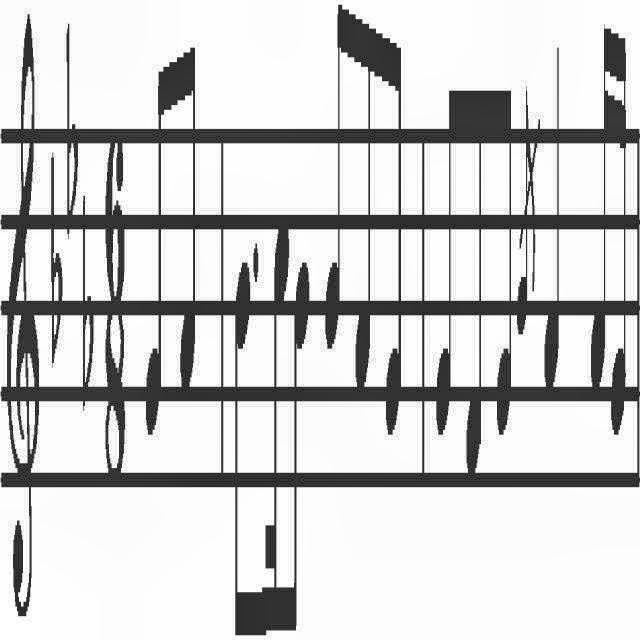Bass-clef: (3, 1, 42, 612)
Bemol: (42, 102, 62, 386), (77, 168, 91, 448), (60, 18, 76, 250)
Eighth-note: (171, 0, 201, 428), (351, 0, 377, 444), (384, 12, 406, 492), (140, 24, 163, 448), (318, 0, 346, 346), (462, 66, 486, 466), (432, 59, 456, 441), (230, 251, 252, 627), (492, 72, 512, 480), (290, 227, 309, 640), (546, 42, 562, 398)
Sixteenth-note: (262, 219, 285, 640), (610, 18, 630, 448), (591, 12, 609, 420)
